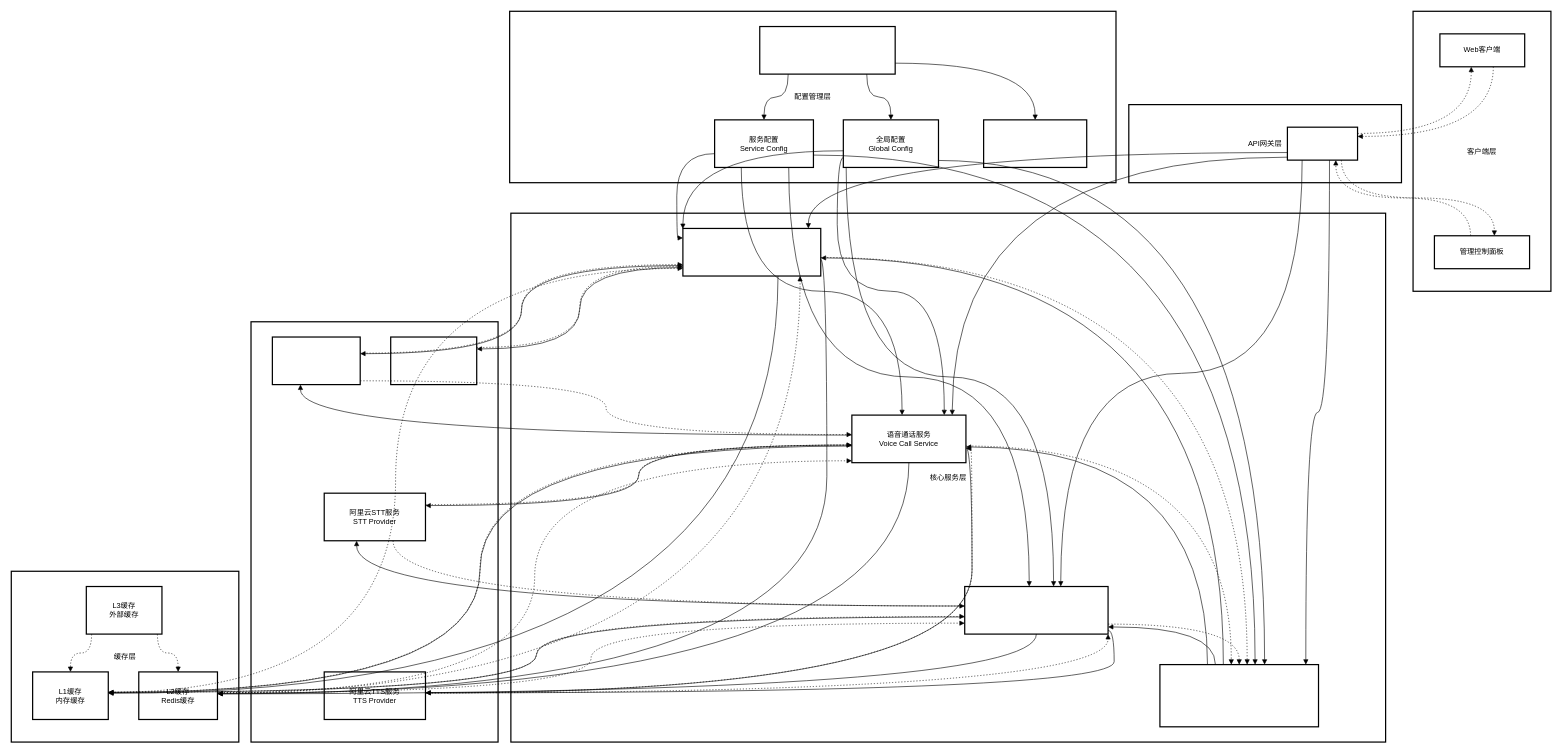
This 1562x753 diagram has some shape labels left out. The shapes that lost their labels are listed below. From the top down, each one's centre as x and y in pixels, then its label:
the point at 827,50: 配置中心 Configuration Manager
the point at 1035,143: 运行时配置 Runtime Config
the point at 1322,143: API网关
the point at 751,252: 文本服务 Text Processing Service
the point at 316,360: LLM服务 LLM Service
the point at 433,360: SRS服务 SRS Service
the point at 1036,610: 音频服务 Audio Processing Service
the point at 1239,695: 会话服务 Session Management Service
